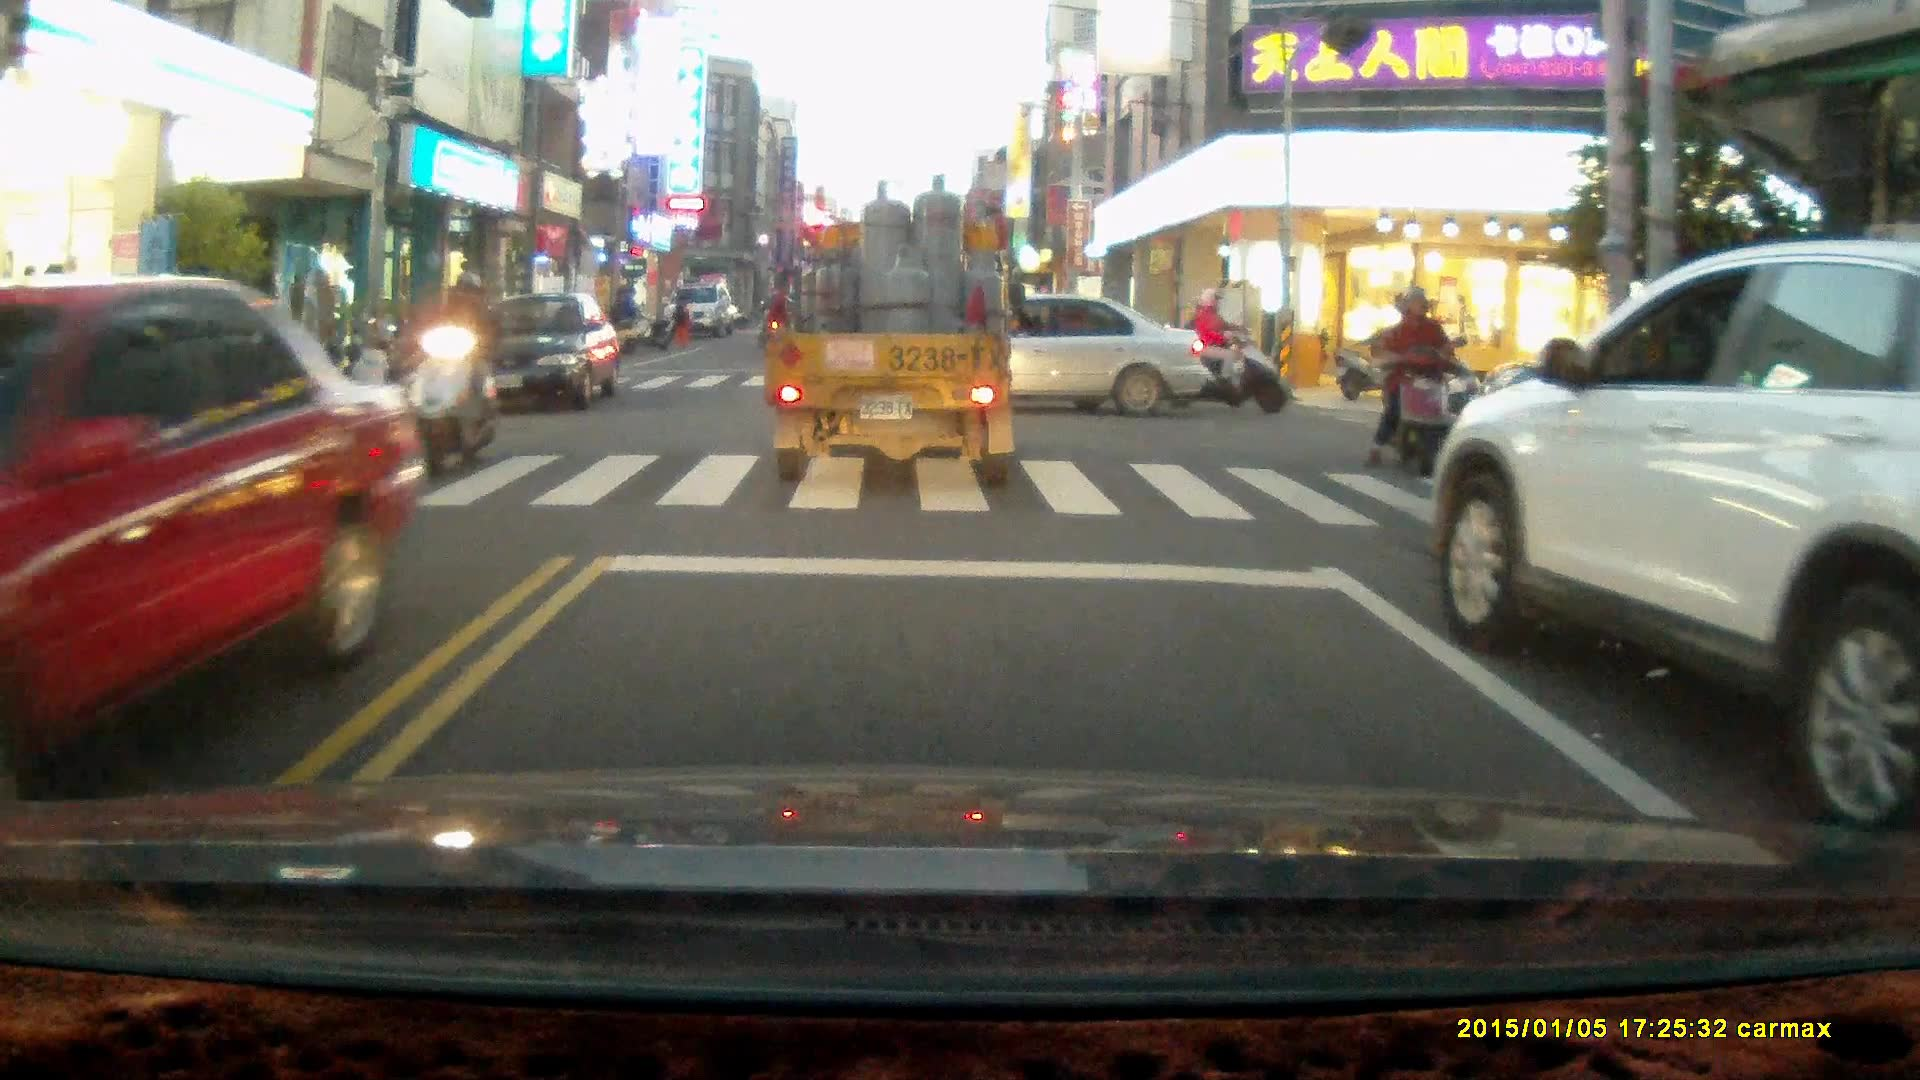pedestrian: (345, 329, 395, 434), (613, 283, 640, 346)
rider: (1360, 284, 1475, 483), (405, 272, 501, 483), (1162, 283, 1287, 410)
vehicle: (1429, 238, 1920, 830), (1, 275, 419, 797), (768, 177, 1025, 490), (845, 290, 1213, 418), (458, 289, 625, 416), (664, 283, 734, 336)
